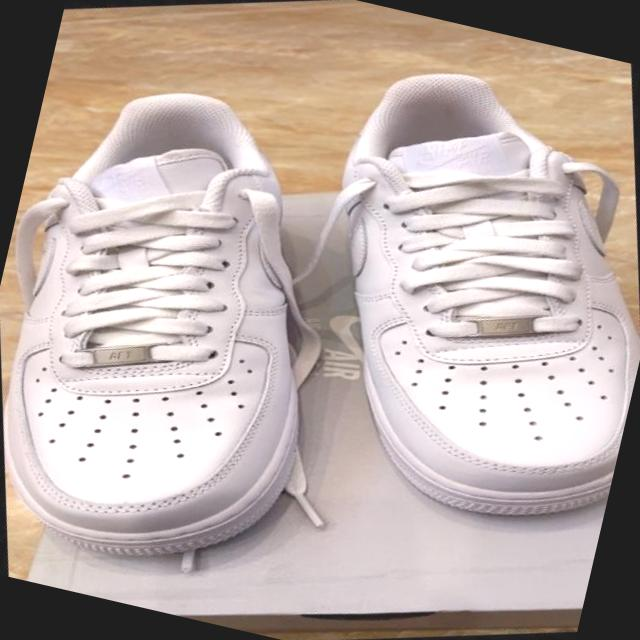nike_original_airforce: (0, 27, 435, 632), (219, 0, 640, 580)
